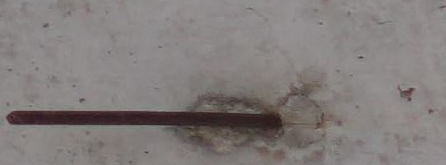Exposed reinforcement: (6, 110, 282, 129)
Spalling: (190, 93, 325, 149)
